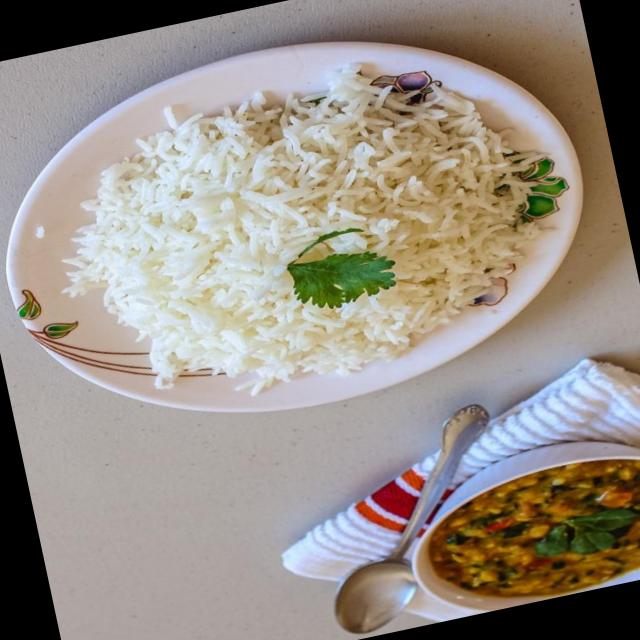rice: (104, 73, 537, 391)
